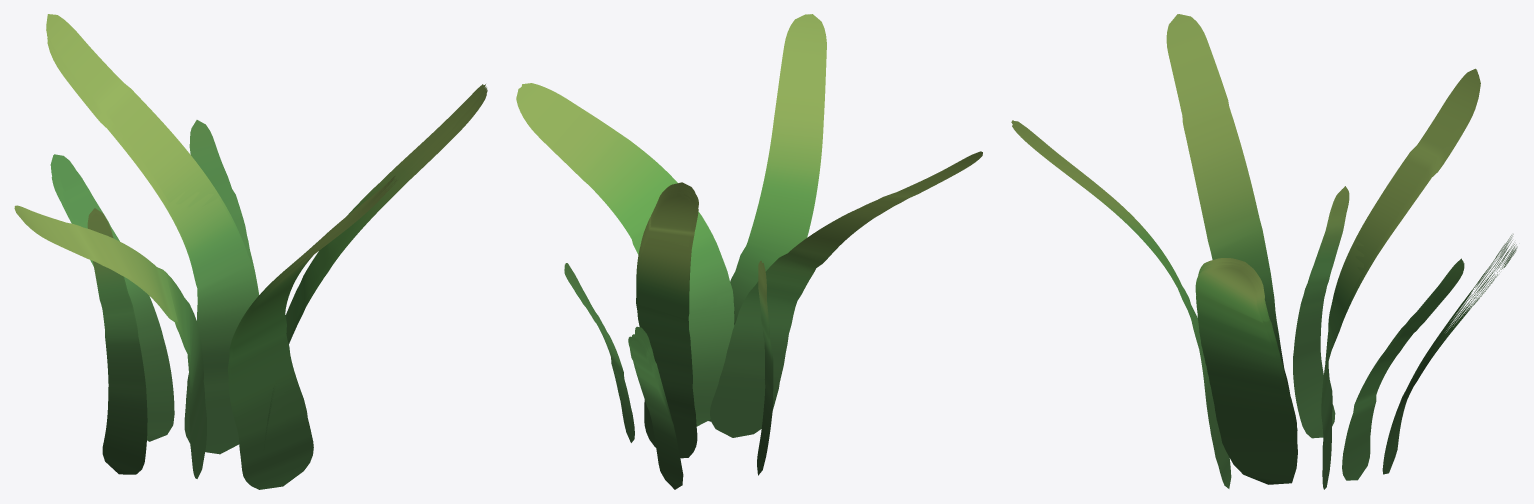
File: AnimatedgrassfbxgammaUnity.fbx
3 renders of one model, left to right at view 1: azimuth 30°, elevation 25°; view 2: azimuth 150°, elevation 25°; view 3: azimuth 270°, elevation 25°, orthographic. The views are drawn at different scales.
Parts seen in each view (by area): view 1: Grasspatch; view 2: Grasspatch; view 3: Grasspatch.
Boxes of the visible parts, bbox=[...] form: Grasspatch: bbox=[14, 14, 487, 489]; Grasspatch: bbox=[516, 14, 982, 489]; Grasspatch: bbox=[1011, 14, 1517, 489].
Bounding box in the file's own units: 31.42 × 24.12 × 29.26.
